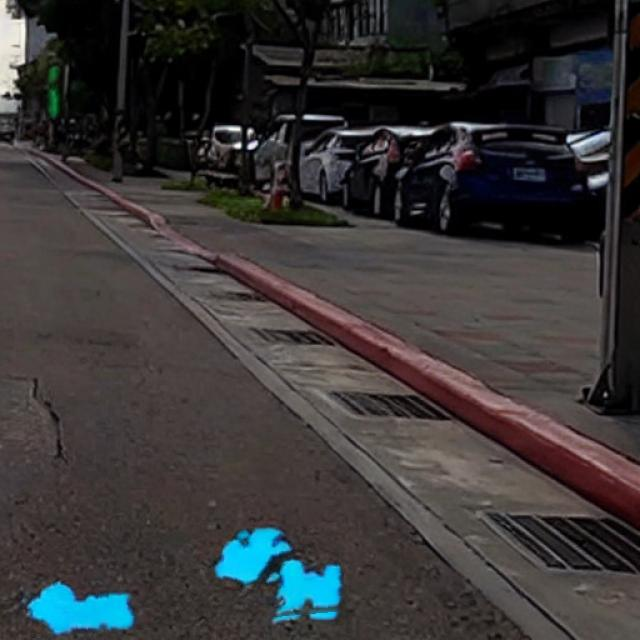puddle: (22, 528, 345, 633)
